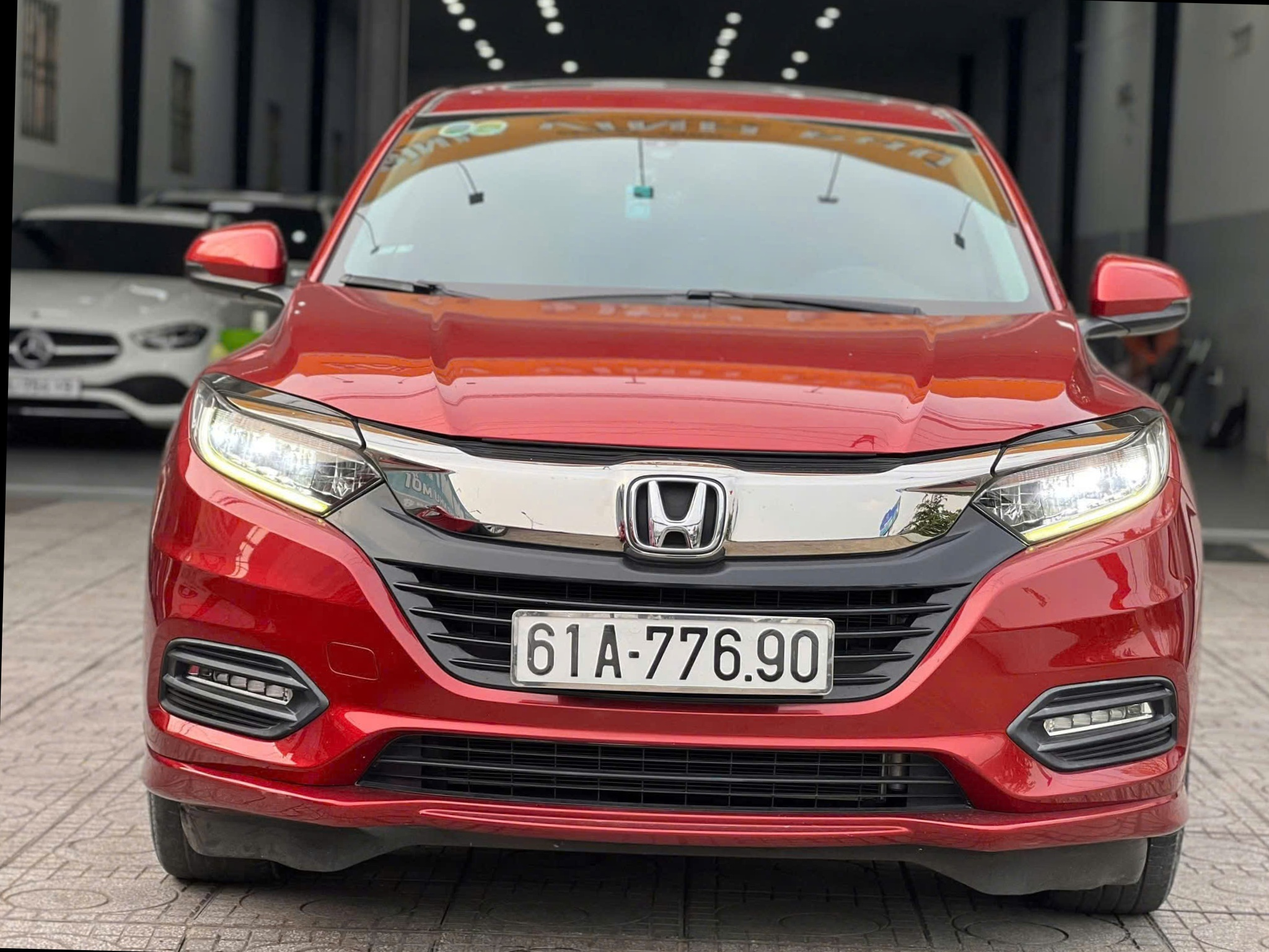Bien-so: (517, 615, 832, 695)
